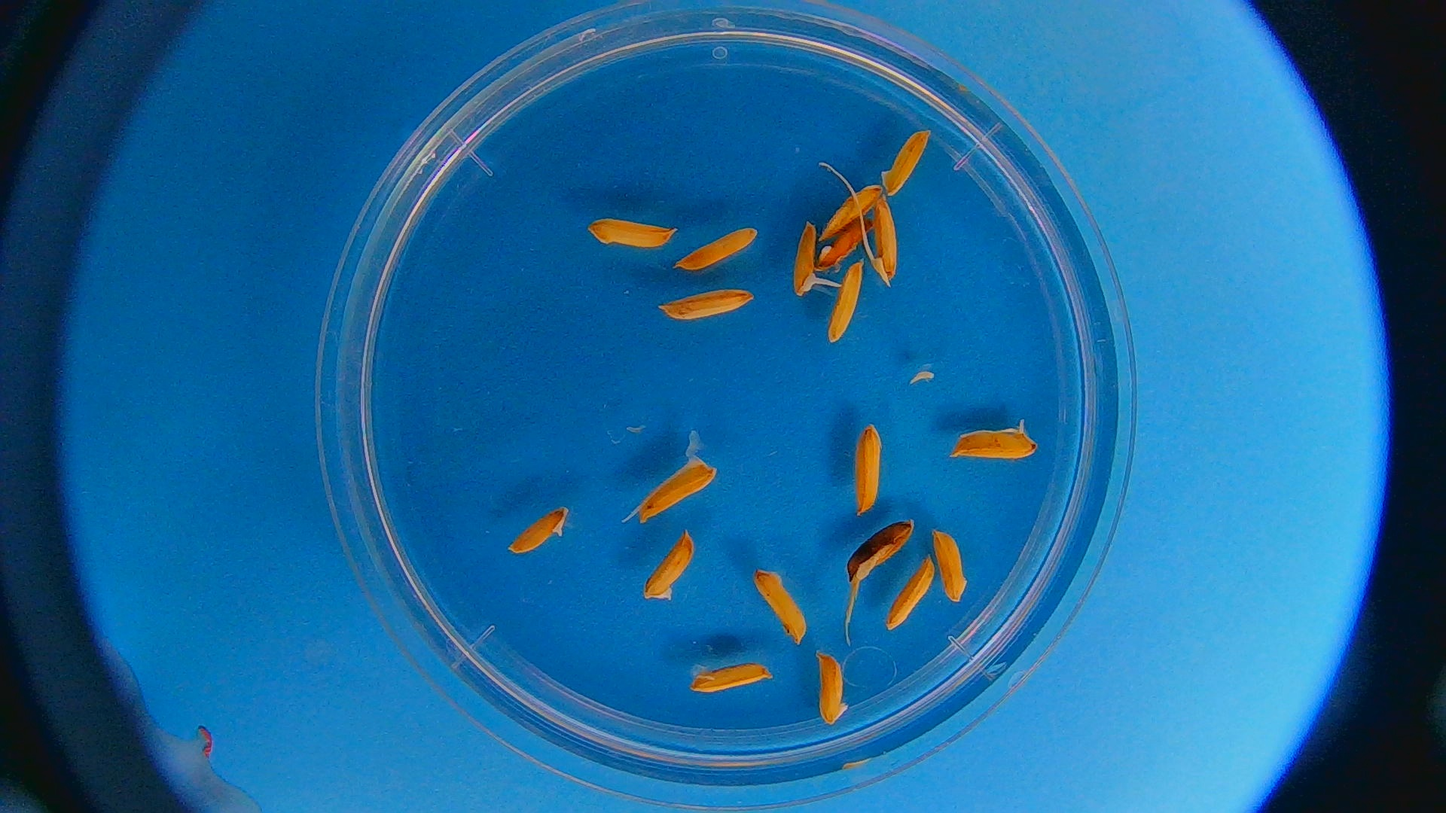no: (656, 282, 761, 327), (847, 518, 916, 583), (753, 568, 810, 645), (685, 659, 773, 702), (676, 227, 757, 273), (643, 531, 695, 601), (886, 558, 935, 629), (881, 127, 931, 193), (822, 184, 880, 238), (814, 218, 871, 272), (507, 507, 568, 556), (589, 217, 679, 247), (829, 260, 857, 346), (935, 531, 969, 601), (856, 422, 882, 513), (819, 653, 851, 725)
yes: (639, 459, 718, 521), (947, 418, 1040, 461), (861, 199, 896, 284), (791, 223, 825, 297)
